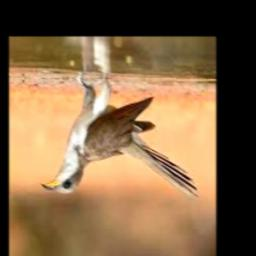Cuckoo: (41, 79, 198, 202)
